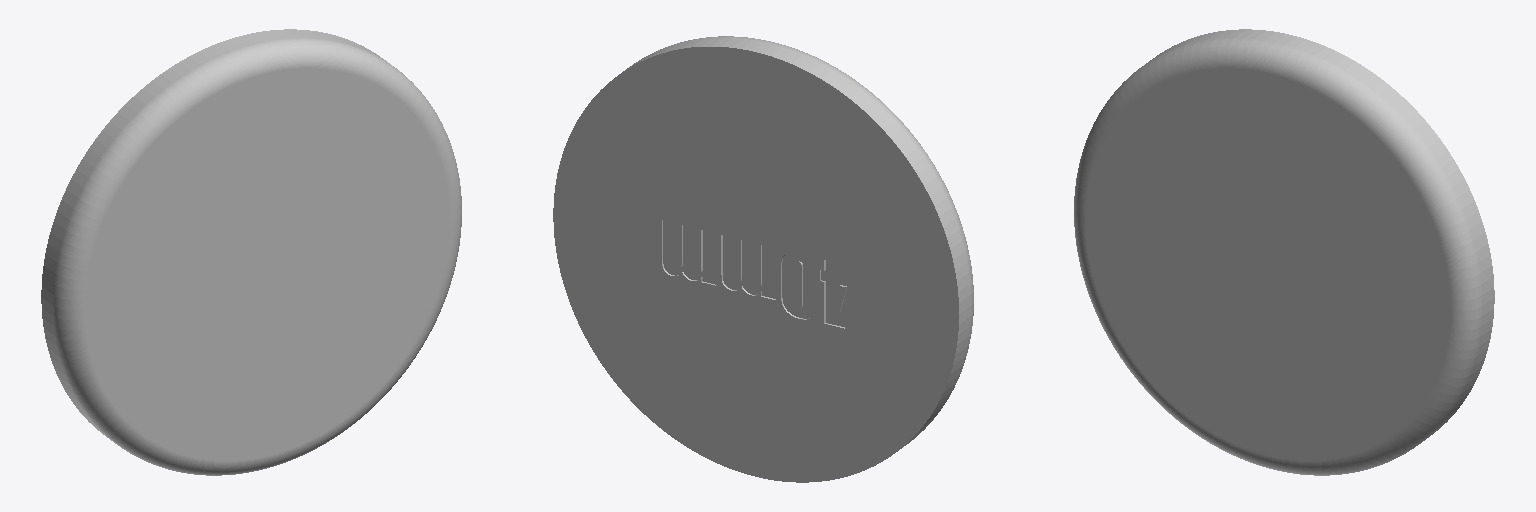
3 views of the same model, side by side, from view 1: azimuth 30°, elevation 25°; view 2: azimuth 150°, elevation 25°; view 3: azimuth 330°, elevation 25° (orthographic).
Parts seen in each view (by area): view 1: base_40; view 2: base_40; view 3: base_40.
Part boxes in pixels (left/top/right/bottom): base_40: left=41, top=29, right=461, bottom=475; base_40: left=553, top=36, right=973, bottom=482; base_40: left=1074, top=29, right=1494, bottom=475.
Bounding box in the file's own units: 40 × 39.99 × 4.